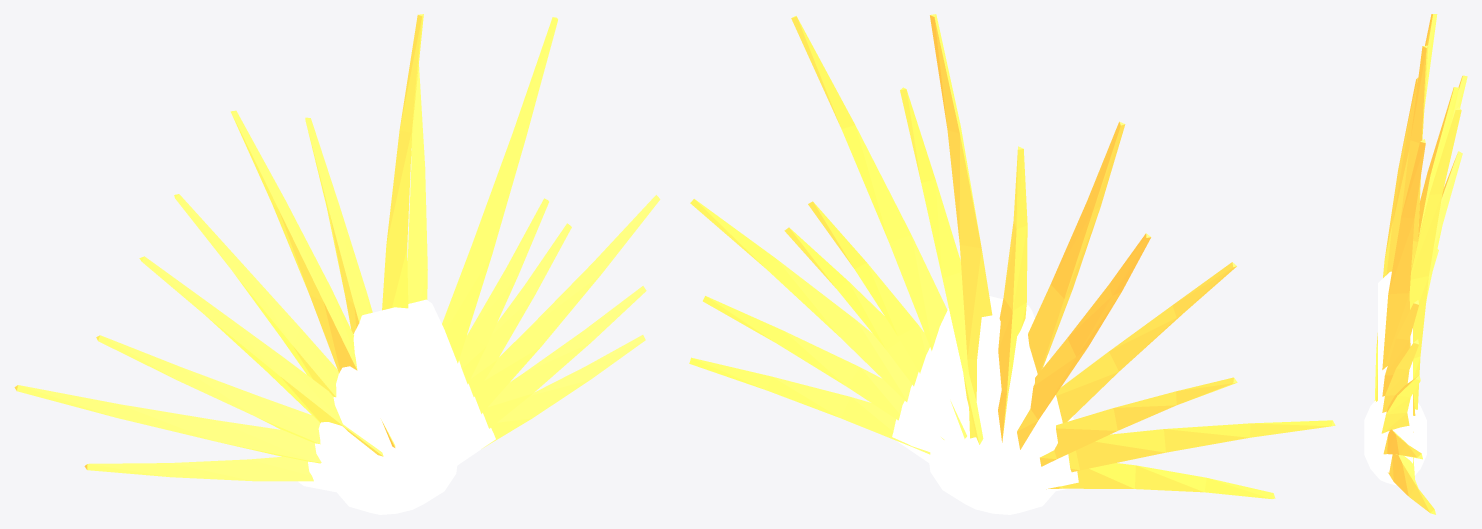
The model's file is fx_sparkfan.glb.
3 renders of one model, left to right at view 1: azimuth 30°, elevation 25°; view 2: azimuth 150°, elevation 25°; view 3: azimuth 270°, elevation 25°, orthographic. The views are drawn at different scales.
Parts seen in each view (by area): view 1: spark-fan; view 2: spark-fan; view 3: spark-fan.
Part boxes in pixels (bbox=[...]): spark-fan: bbox=[14, 14, 660, 514]; spark-fan: bbox=[689, 14, 1335, 514]; spark-fan: bbox=[1364, 14, 1467, 514].
Size of the model in its own units: 0.7838 by 0.5649 by 0.118.
